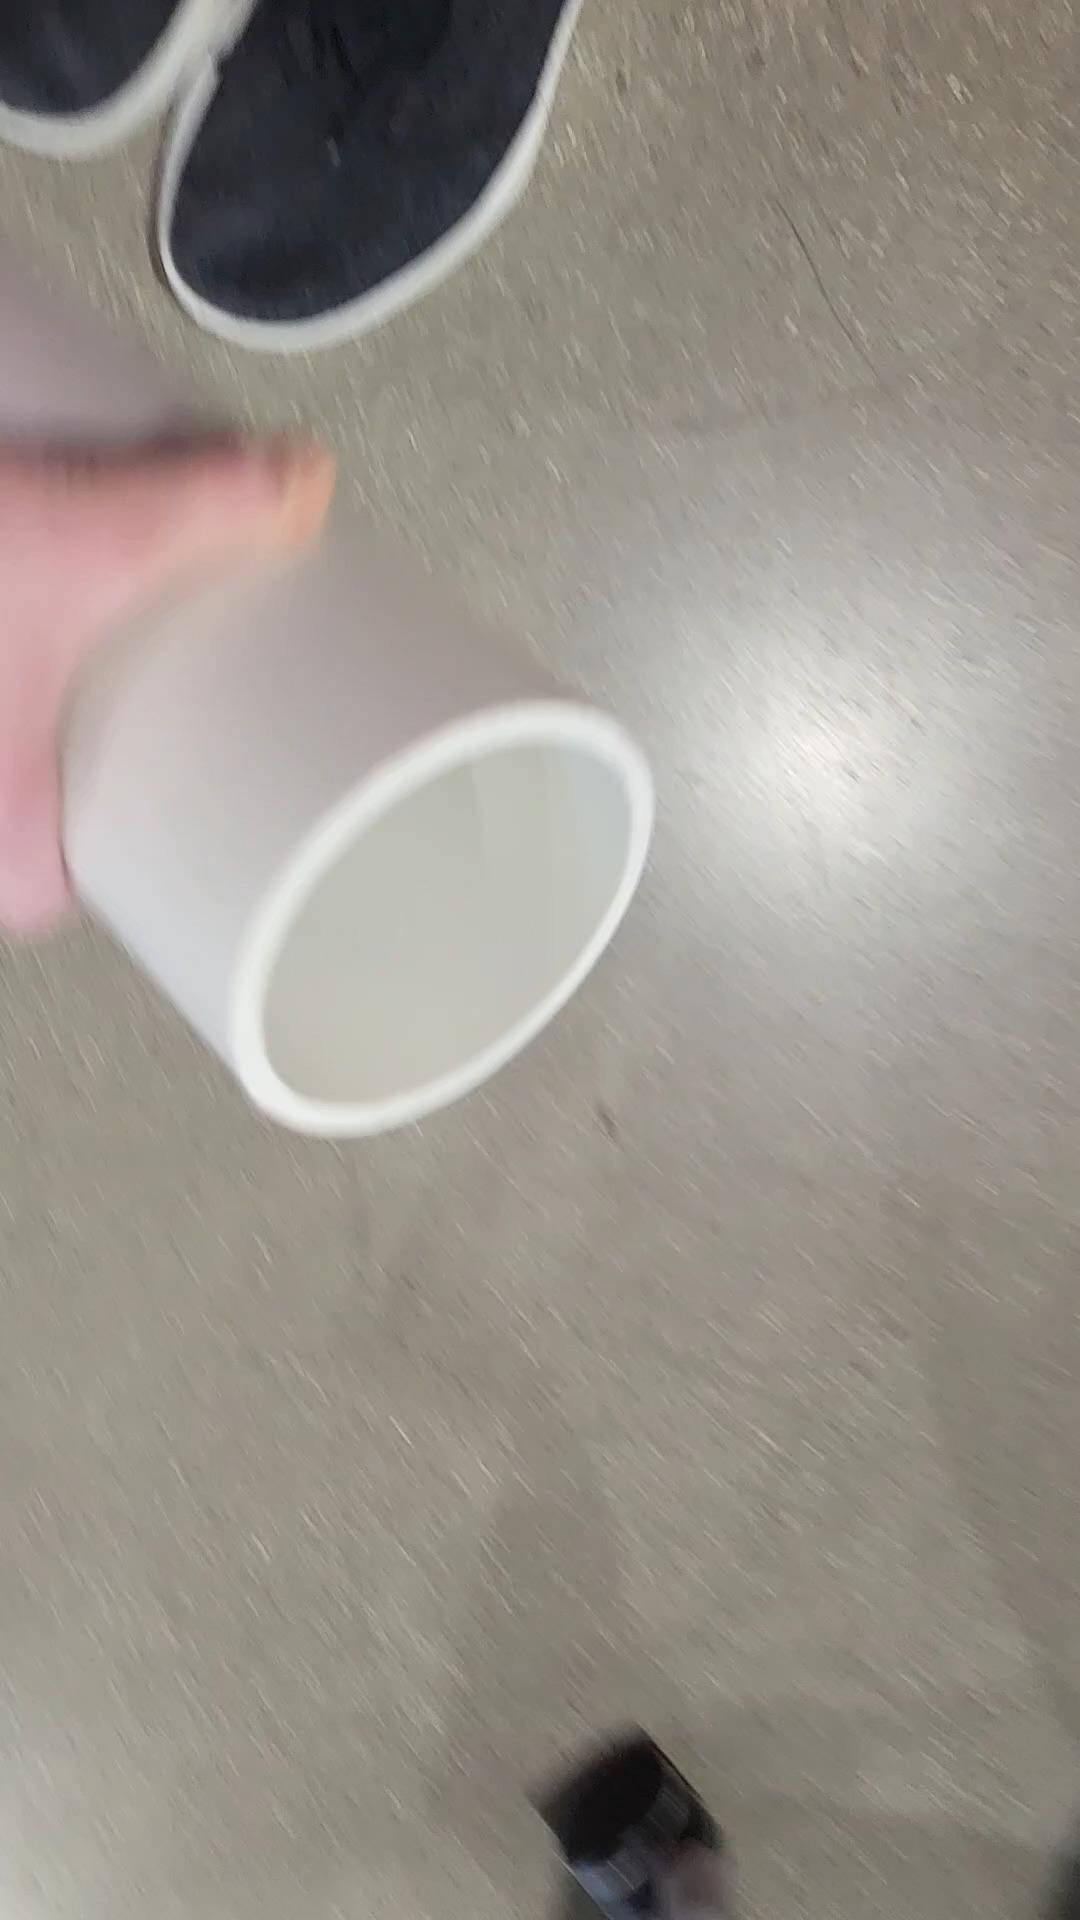coral: (0, 270, 674, 1141)
